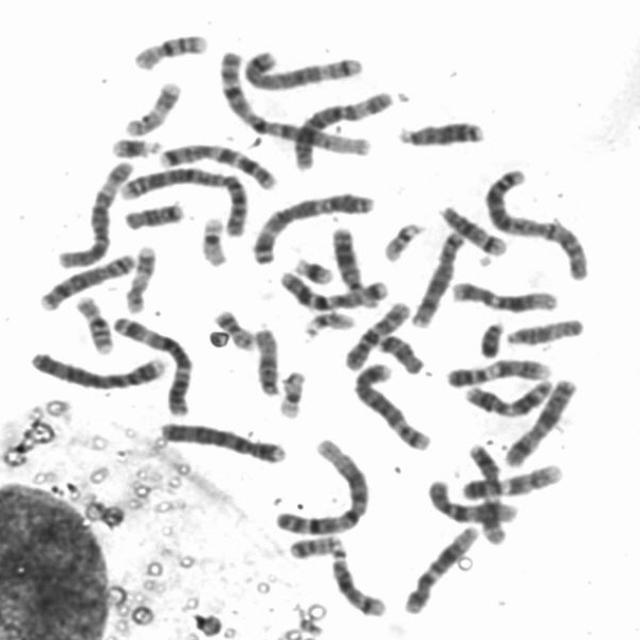A1: (214, 44, 378, 158), (268, 431, 376, 537)
A2: (480, 160, 596, 282), (115, 159, 254, 238)
A3: (246, 184, 381, 265), (109, 308, 199, 417)
B4: (154, 413, 292, 466), (26, 343, 172, 392)
B5: (348, 354, 437, 452), (238, 42, 368, 91)
C10: (340, 293, 414, 372), (422, 472, 524, 526)
C11: (461, 436, 513, 546), (460, 371, 559, 418)
C12: (399, 517, 484, 616), (446, 273, 563, 314)
C6: (53, 153, 138, 270), (288, 84, 396, 172)
C7: (154, 134, 282, 190), (274, 264, 391, 312)
C8: (35, 245, 141, 313), (407, 223, 470, 328)
C9: (455, 456, 568, 501), (441, 351, 558, 388)
D13: (327, 219, 381, 308), (392, 112, 489, 148)
D14: (326, 545, 392, 619), (434, 196, 512, 256)
D15: (502, 310, 590, 348), (250, 320, 286, 398)
E16: (128, 25, 213, 72), (71, 288, 118, 356)
E17: (120, 74, 186, 138), (120, 237, 160, 315)
E18: (372, 326, 430, 375), (120, 194, 190, 232)
F19: (195, 208, 232, 268), (273, 363, 311, 420)
F20: (208, 302, 260, 352), (283, 528, 347, 560)
G21: (289, 248, 338, 286), (106, 130, 166, 160)
G22: (378, 214, 429, 262), (298, 303, 360, 340)
X: (499, 371, 583, 468)
Y: (475, 314, 509, 359)
